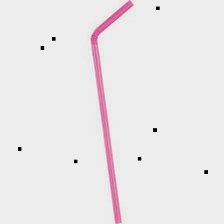drinking_straw: (85, 0, 137, 224)
